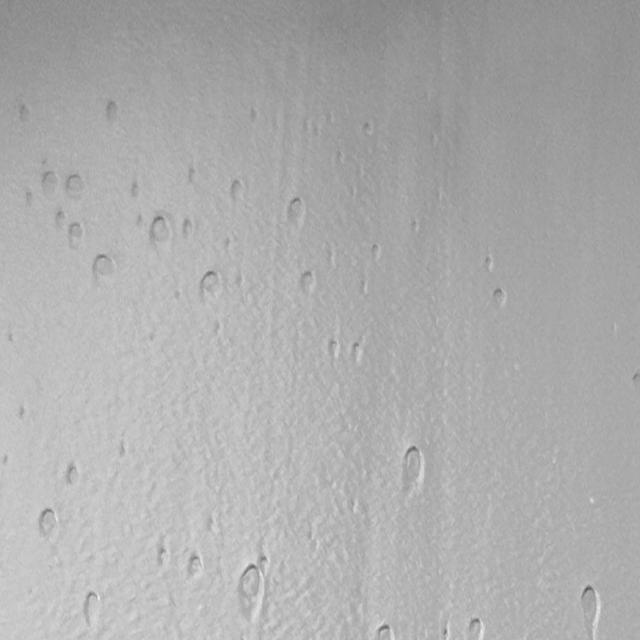pin holes: (234, 560, 268, 623), (572, 580, 604, 640), (399, 443, 428, 492), (33, 506, 60, 544), (145, 212, 171, 249), (80, 591, 104, 630), (197, 270, 223, 306), (90, 252, 118, 284), (296, 269, 319, 299), (284, 196, 307, 226), (183, 553, 205, 583), (37, 170, 58, 200), (64, 218, 85, 248), (66, 172, 88, 200), (465, 615, 488, 640), (487, 285, 508, 311), (104, 99, 124, 126), (14, 102, 35, 126), (154, 543, 172, 571), (62, 463, 82, 488), (228, 179, 247, 205), (349, 341, 368, 366), (13, 403, 32, 425), (182, 216, 198, 242), (325, 338, 342, 362), (128, 181, 144, 205), (374, 624, 396, 640), (368, 240, 384, 261), (407, 217, 421, 239), (52, 212, 66, 234), (359, 277, 373, 298), (259, 553, 273, 574), (482, 254, 496, 274), (187, 165, 201, 185), (362, 120, 376, 139), (1, 451, 15, 468), (23, 190, 35, 209), (223, 236, 236, 253), (441, 624, 453, 640), (630, 371, 639, 390)
